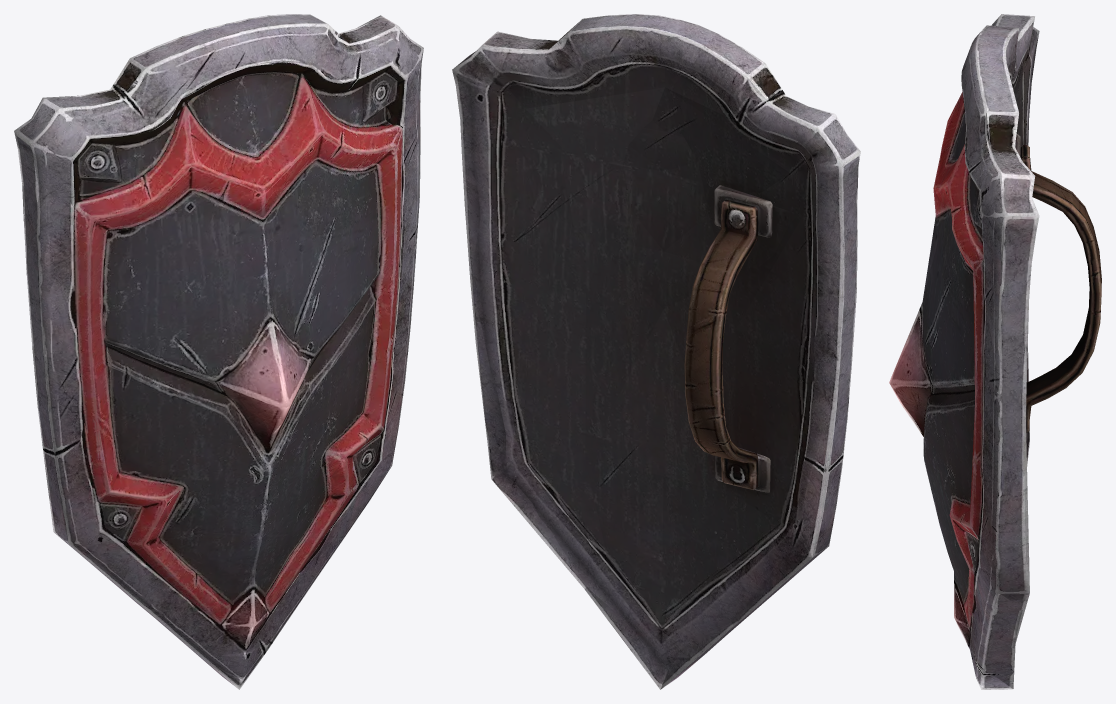
3 renders of one model, left to right at view 1: azimuth 30°, elevation 25°; view 2: azimuth 150°, elevation 25°; view 3: azimuth 270°, elevation 25°, orthographic. The views are drawn at different scales.
Visible parts, largest first — view 1: SM_M_MED_Black_Knight_Melee_Kite_1H_01_LOD0; view 2: SM_M_MED_Black_Knight_Melee_Kite_1H_01_LOD0; view 3: SM_M_MED_Black_Knight_Melee_Kite_1H_01_LOD0.
Part boxes in pixels (box(x1,y1,x2,y2)): SM_M_MED_Black_Knight_Melee_Kite_1H_01_LOD0: box(14, 14, 423, 689); SM_M_MED_Black_Knight_Melee_Kite_1H_01_LOD0: box(452, 14, 860, 689); SM_M_MED_Black_Knight_Melee_Kite_1H_01_LOD0: box(889, 14, 1101, 689).
Size of the model in its own units: 0.5653 by 0.9064 by 0.2736.
1 material, 1 textured.
